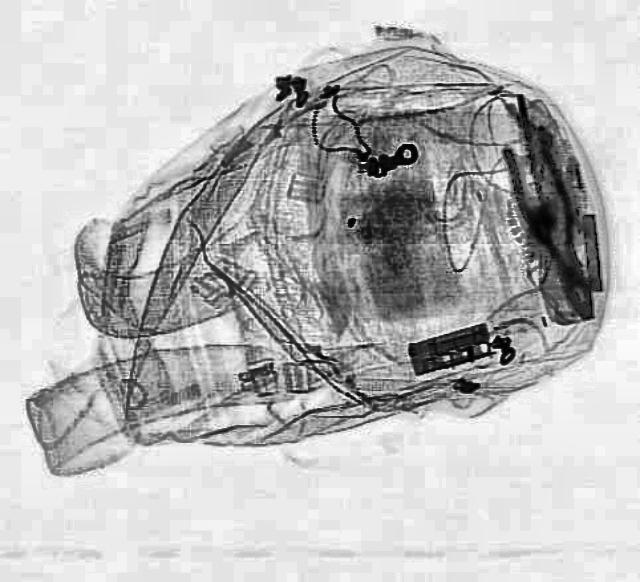Pliers: (491, 123, 614, 326)
